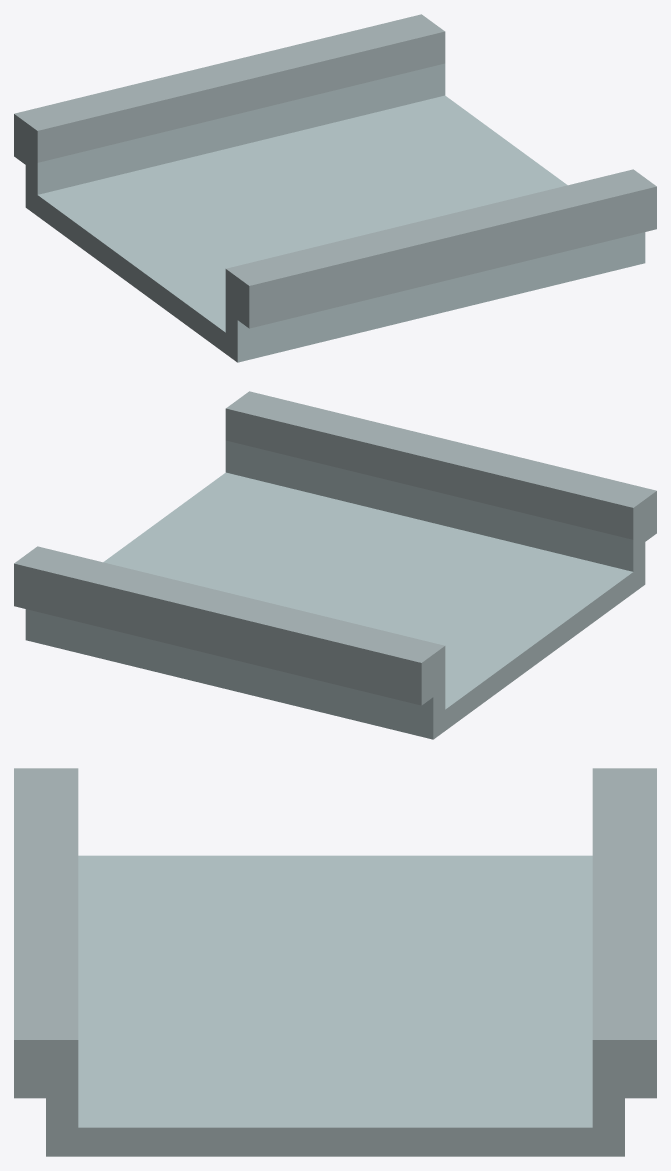
The model's file is bridge_center_stoneRound.glb.
The picture shows the model from 3 angles, top to bottom: view 1: azimuth 30°, elevation 25°; view 2: azimuth 150°, elevation 25°; view 3: azimuth 270°, elevation 25°; orthographic projection. The views are drawn at different scales.
Visible parts, largest first — view 1: bridge_center_stoneRound; view 2: bridge_center_stoneRound; view 3: bridge_center_stoneRound.
Boxes of the visible parts, <box> form: bridge_center_stoneRound: <box>14,14,656,362</box>; bridge_center_stoneRound: <box>14,391,656,739</box>; bridge_center_stoneRound: <box>14,768,656,1156</box>.
Bounding box in the file's own units: 1 × 0.2 × 1.
